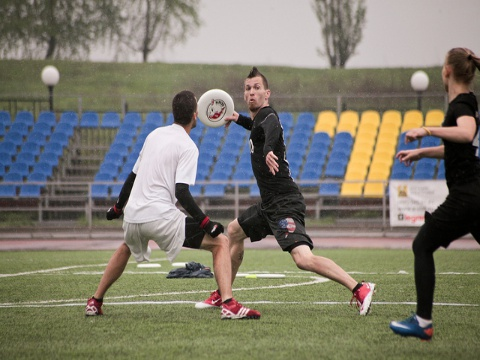hand: (395, 149, 422, 166), (403, 128, 427, 145), (264, 151, 280, 175)
